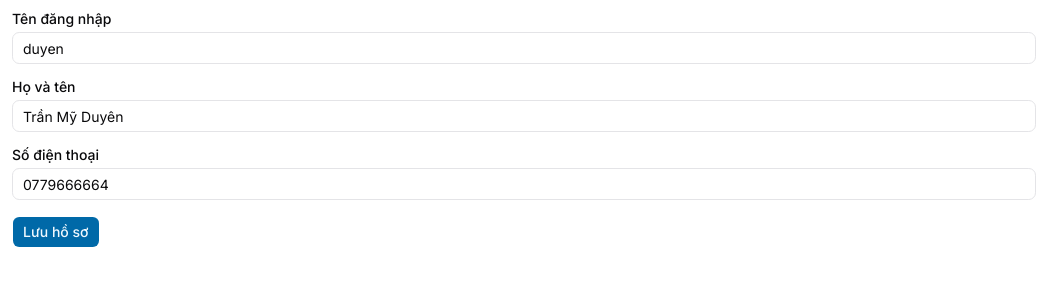
Test case: ProfileForm › lỗi trường từ backend hiện dưới ô
Click the button "Lưu hồ sơ" at (56, 232), box left=12, top=216, right=100, bottom=248
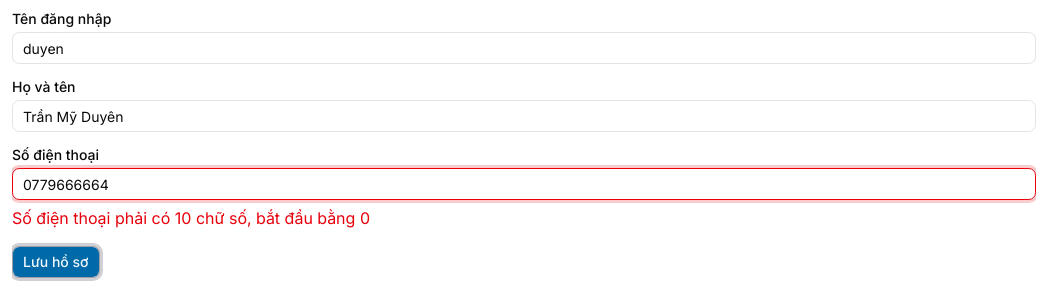
Result: the text "Số điện thoại phải có 10 chữ số, bắt đầu bằng 0" is shown at left=12, top=208, right=370, bottom=228
